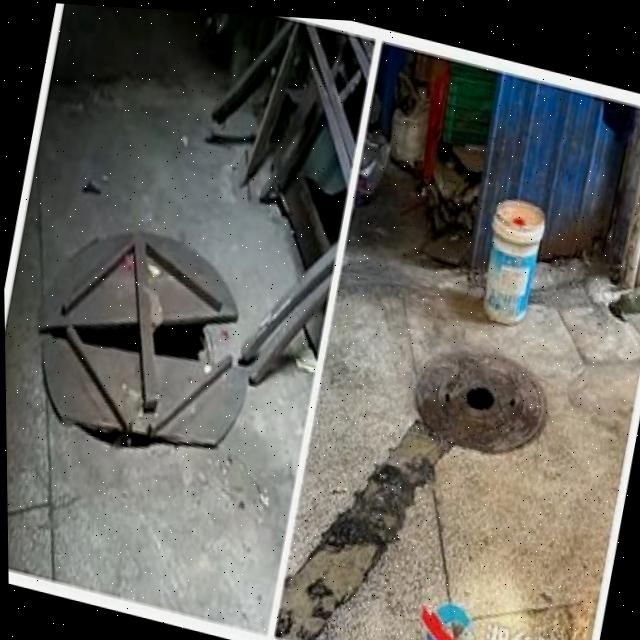manhole: (8, 211, 263, 476), (394, 319, 561, 468)
